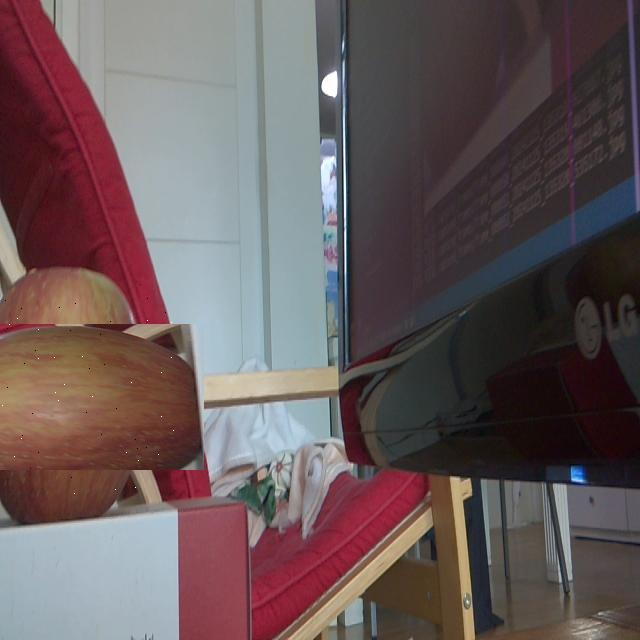apple: (0, 294, 175, 499)
